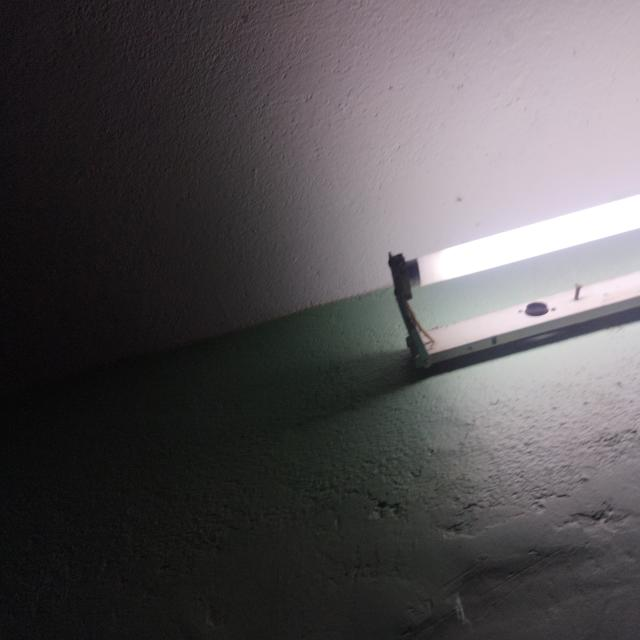tubelight_on: (376, 174, 640, 377)
